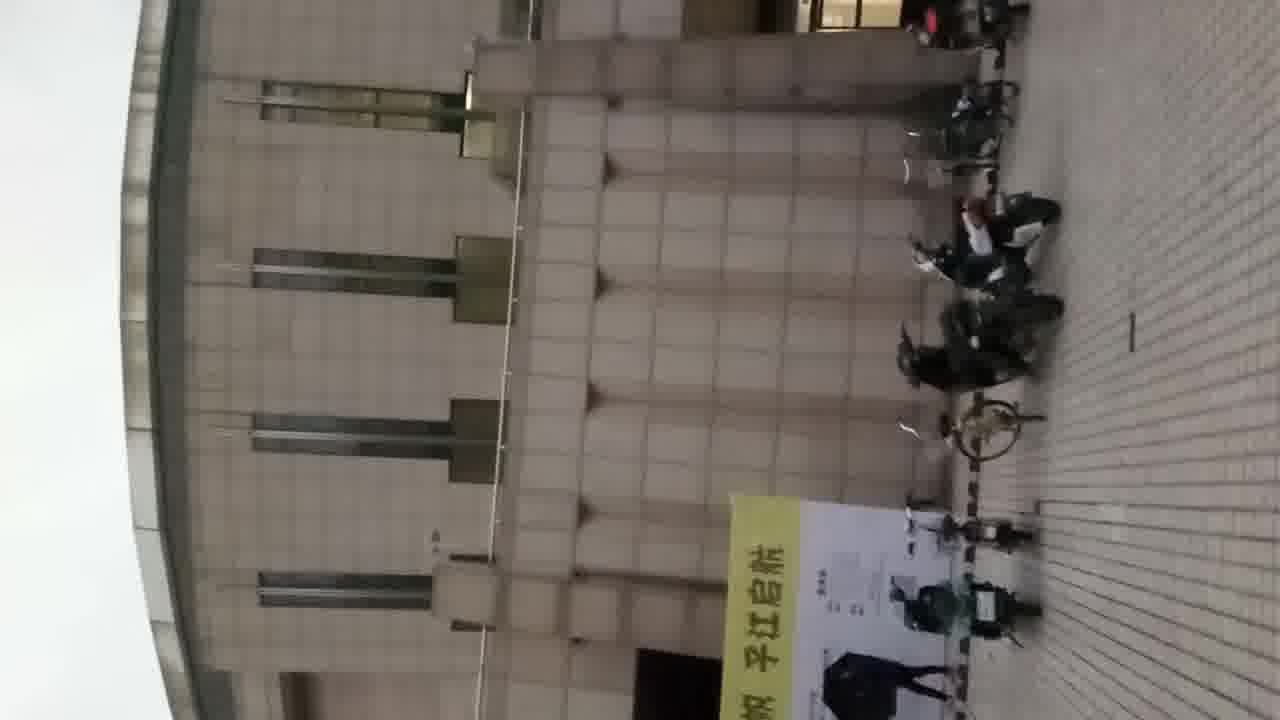zhongtiww: (116, 6, 964, 720)
